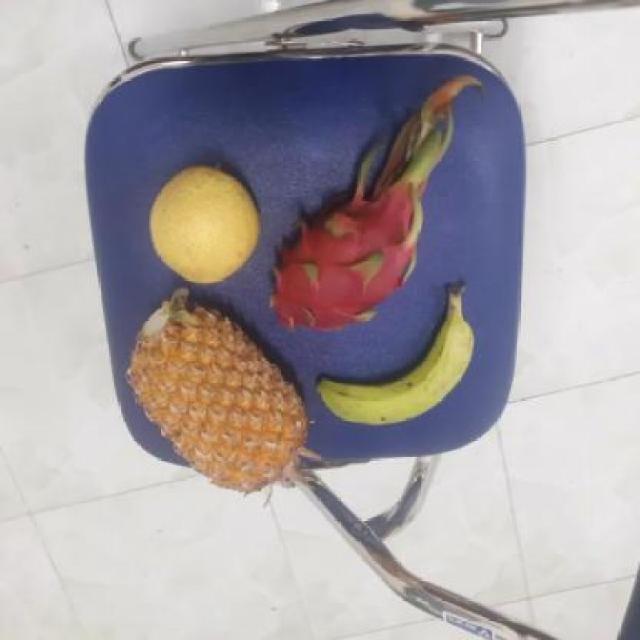banana: (312, 294, 472, 429)
dragon fruit: (254, 182, 423, 330)
pear: (147, 168, 261, 284)
pineapple: (126, 296, 306, 492)
